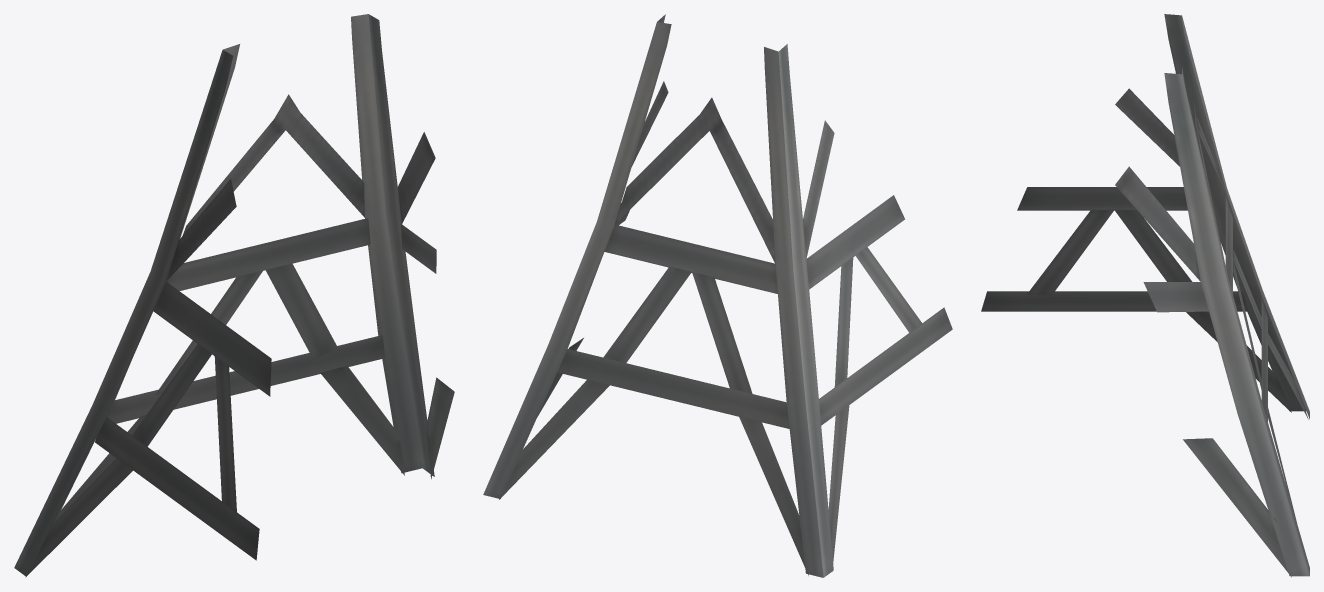
Rendered from B2Broke2.FBX.
The picture shows the model from 3 angles, left to right: view 1: azimuth 30°, elevation 25°; view 2: azimuth 150°, elevation 25°; view 3: azimuth 270°, elevation 25°; orthographic projection. The views are drawn at different scales.
Parts seen in each view (by area): view 1: B2Broke2 (×2); view 2: B2Broke2 (×2); view 3: B2Broke2 (×2).
Part boxes in pixels (x1,y1,x2,y2): B2Broke2 (×2): [14, 14, 454, 577]; B2Broke2 (×2): [483, 14, 952, 577]; B2Broke2 (×2): [981, 14, 1309, 577].
Size of the model in its own units: 89.23 by 114 by 75.24.
